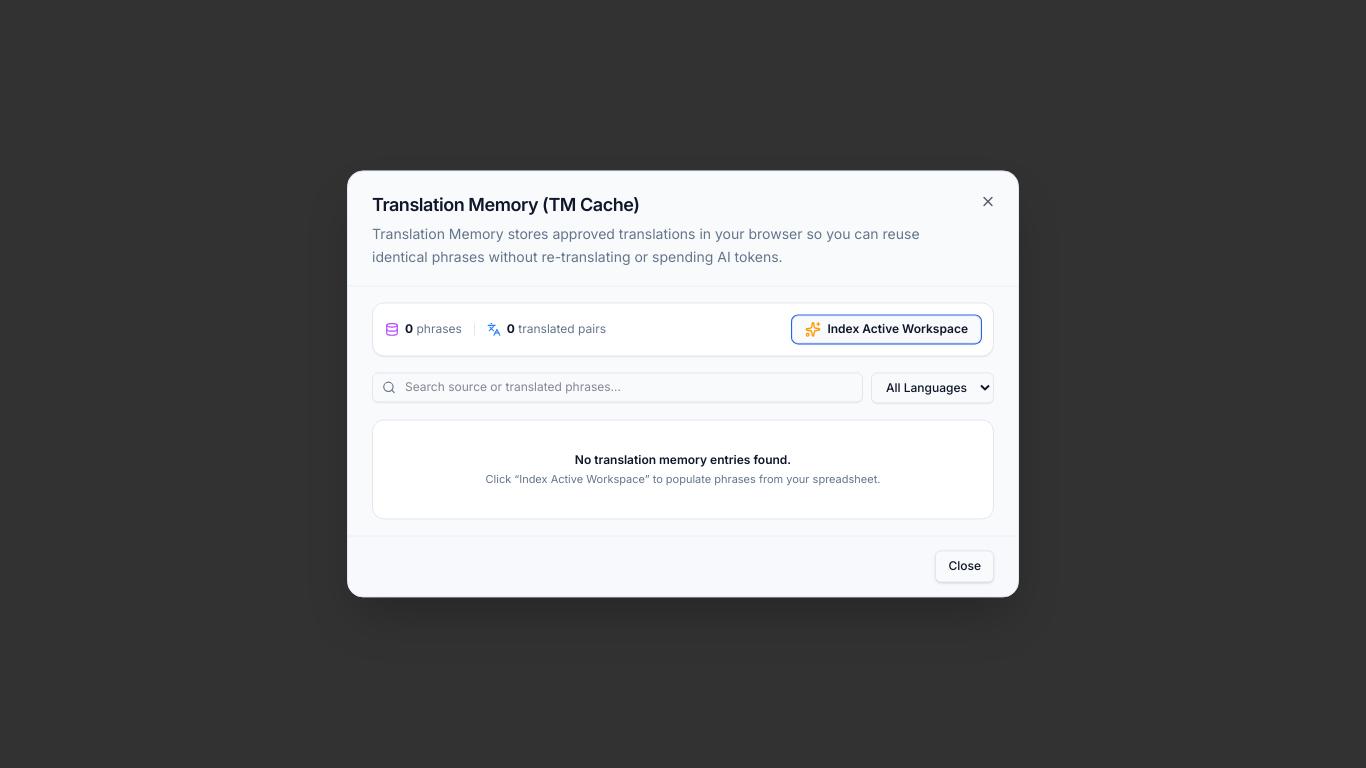
TranslationMemoryModal › opens custom ConfirmDialog when Clear button is clicked and clears memory on confirmation
Note: Index first so entries exist
Click the button "Index Active Workspace" at {"x": 887, "y": 329}, box [792,315,981,343]
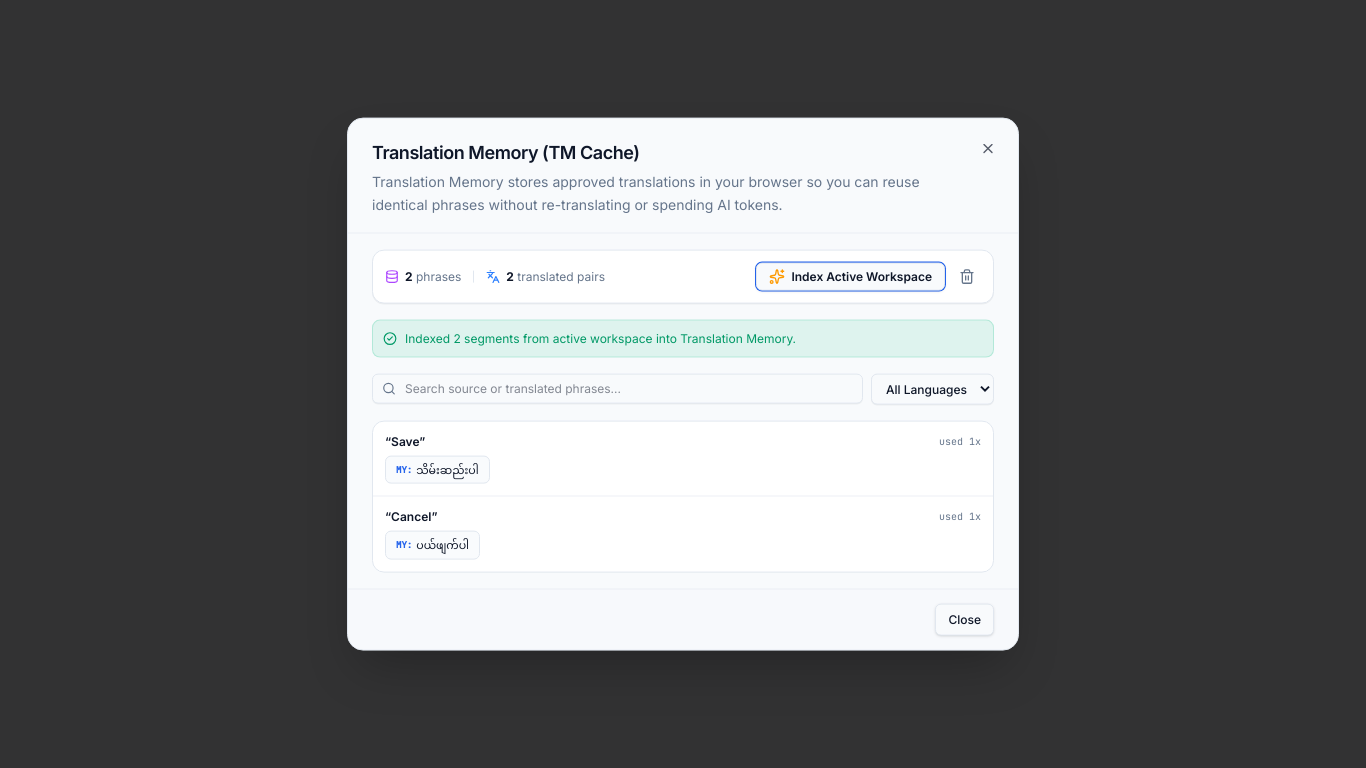
Expected: the text "“Save”" is shown, [385,433,425,449]
Note: Click trash button
Click the button titled "Clear all memory" at {"x": 967, "y": 276}, box [953,262,981,290]
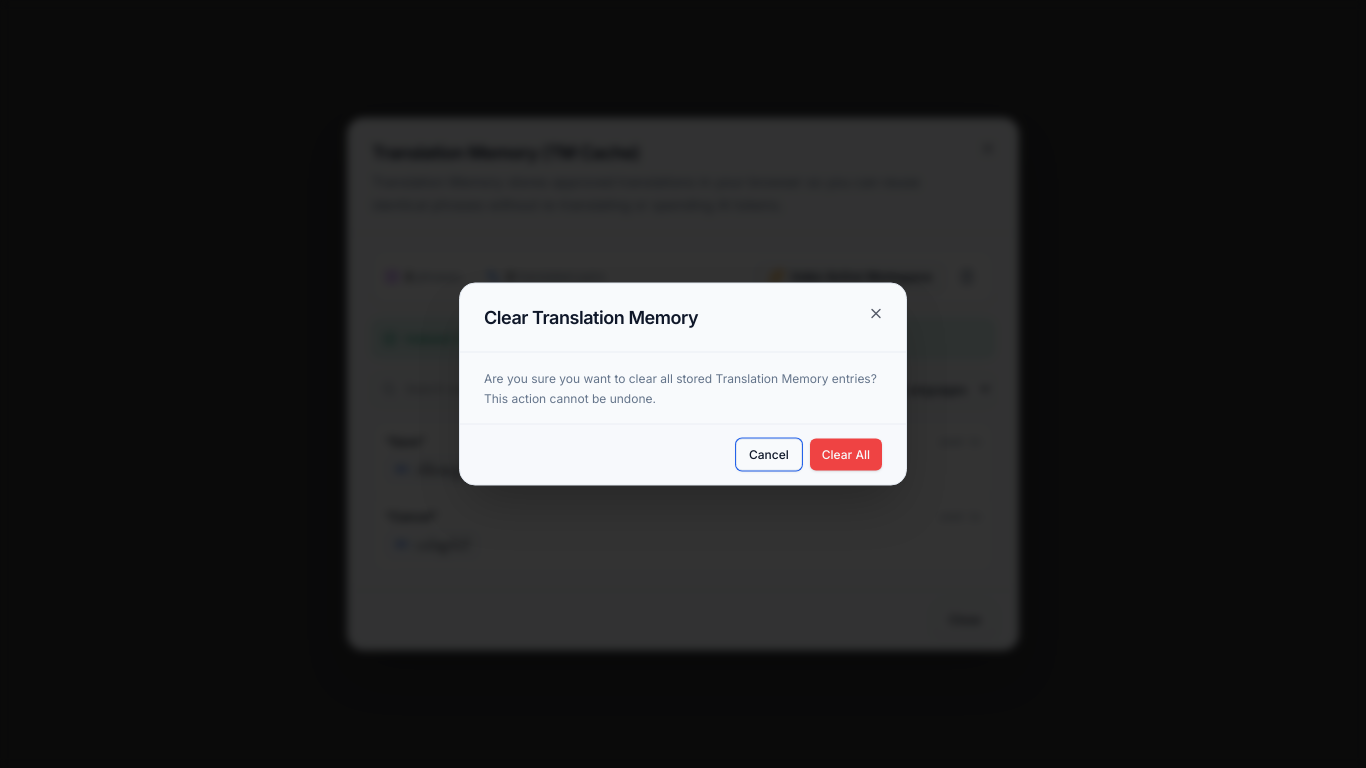
Expected: the heading "Clear Translation Memory" is shown, [484,306,698,328]
Note: Confirm the dialog
Click the button "Clear All" at {"x": 846, "y": 454}, box [810,438,882,470]
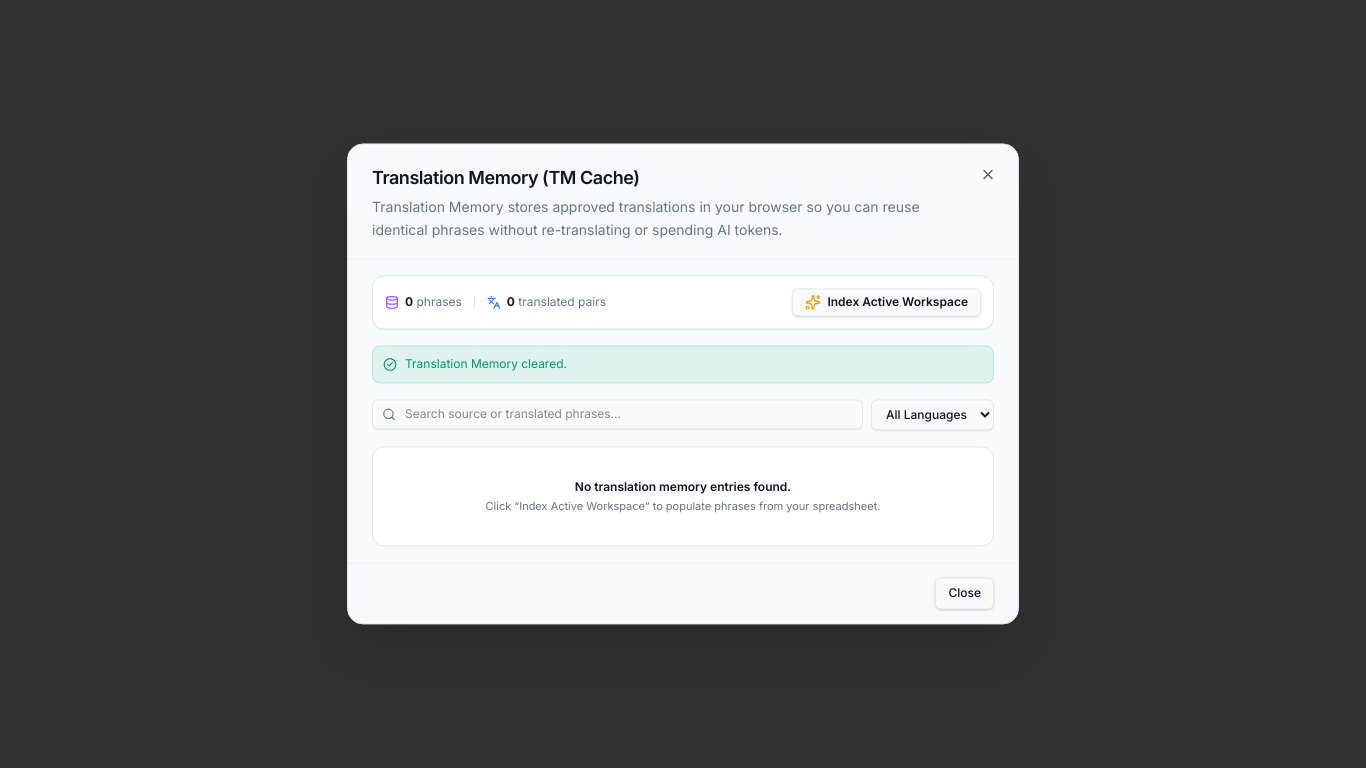
Expected: the text "No translation memory entries found." is shown, [575,479,791,494]
